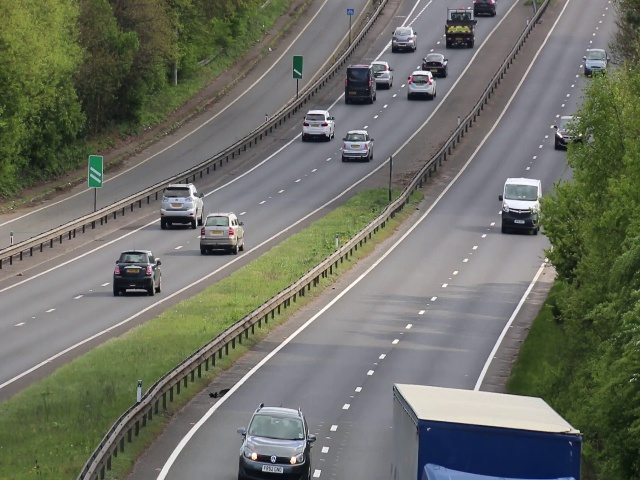car: (239, 404, 312, 480), (499, 174, 541, 237), (112, 249, 162, 298), (159, 183, 204, 229), (199, 213, 246, 254), (444, 3, 477, 50), (344, 63, 376, 107), (300, 107, 336, 142), (341, 129, 374, 161), (390, 22, 419, 52), (407, 69, 436, 99), (422, 50, 449, 79), (554, 112, 575, 149), (583, 45, 607, 76), (369, 61, 393, 88)
